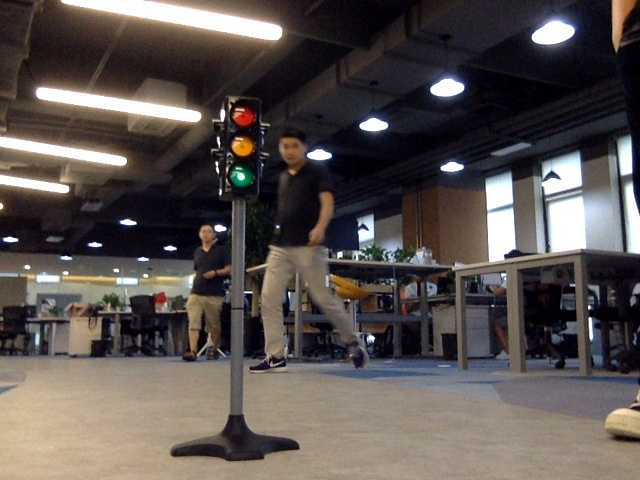green: (227, 103, 256, 191)
